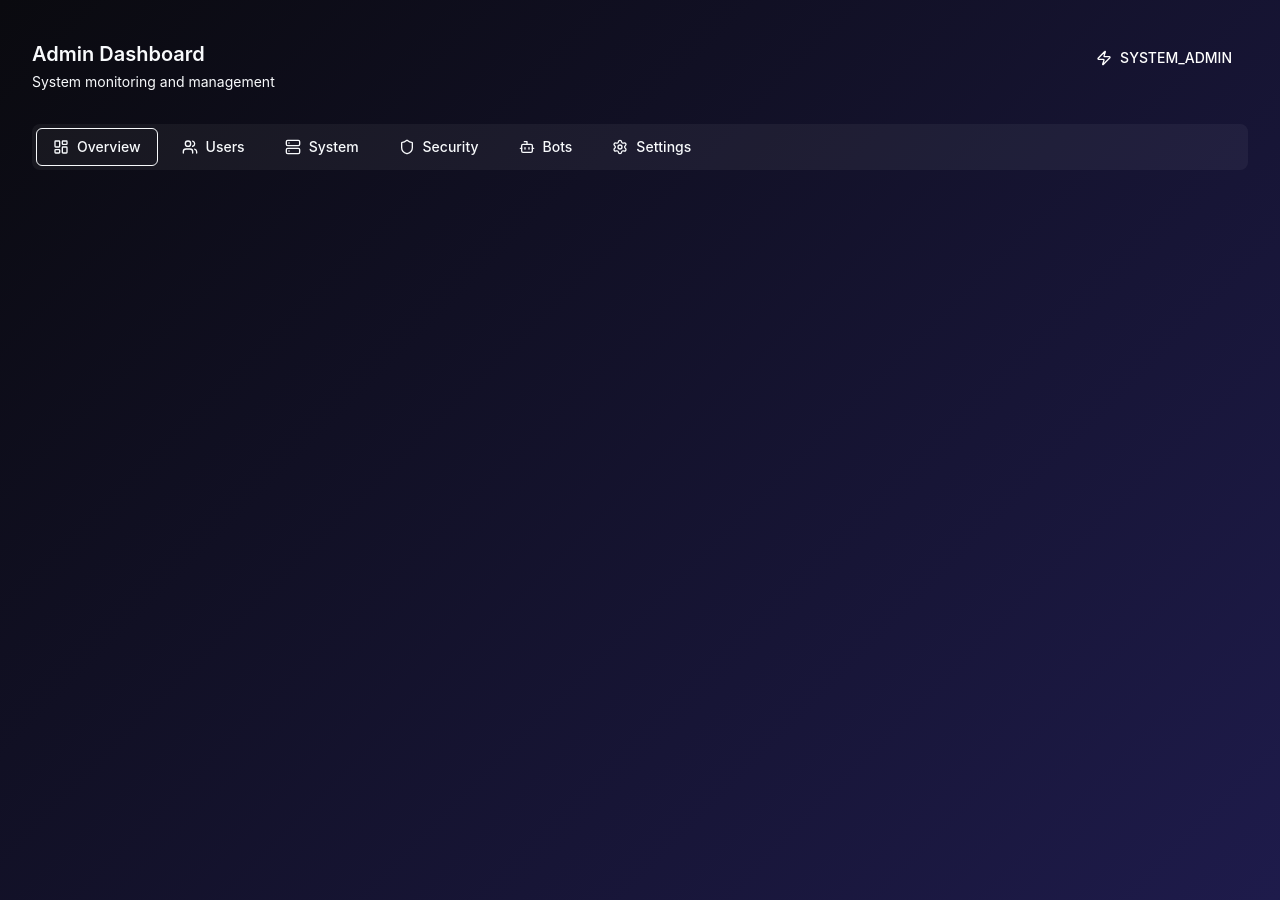
Test case: AdminDashboard › should navigate to different tabs
This screenshot has width=1280, height=900.
Click the button "Users": [213, 147] box [166,129,261,165]
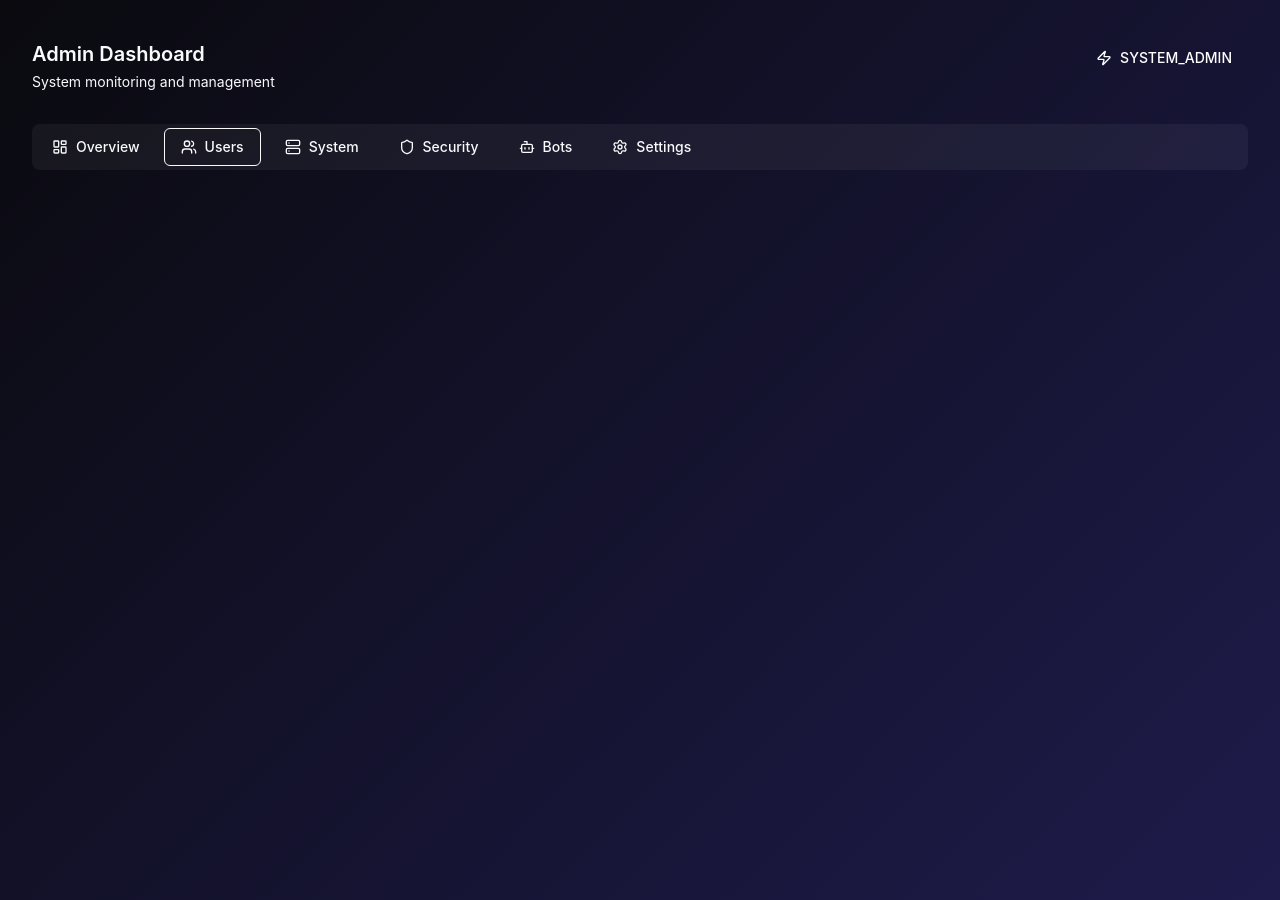
Click the button "System": [322, 147] box [269,129,374,165]
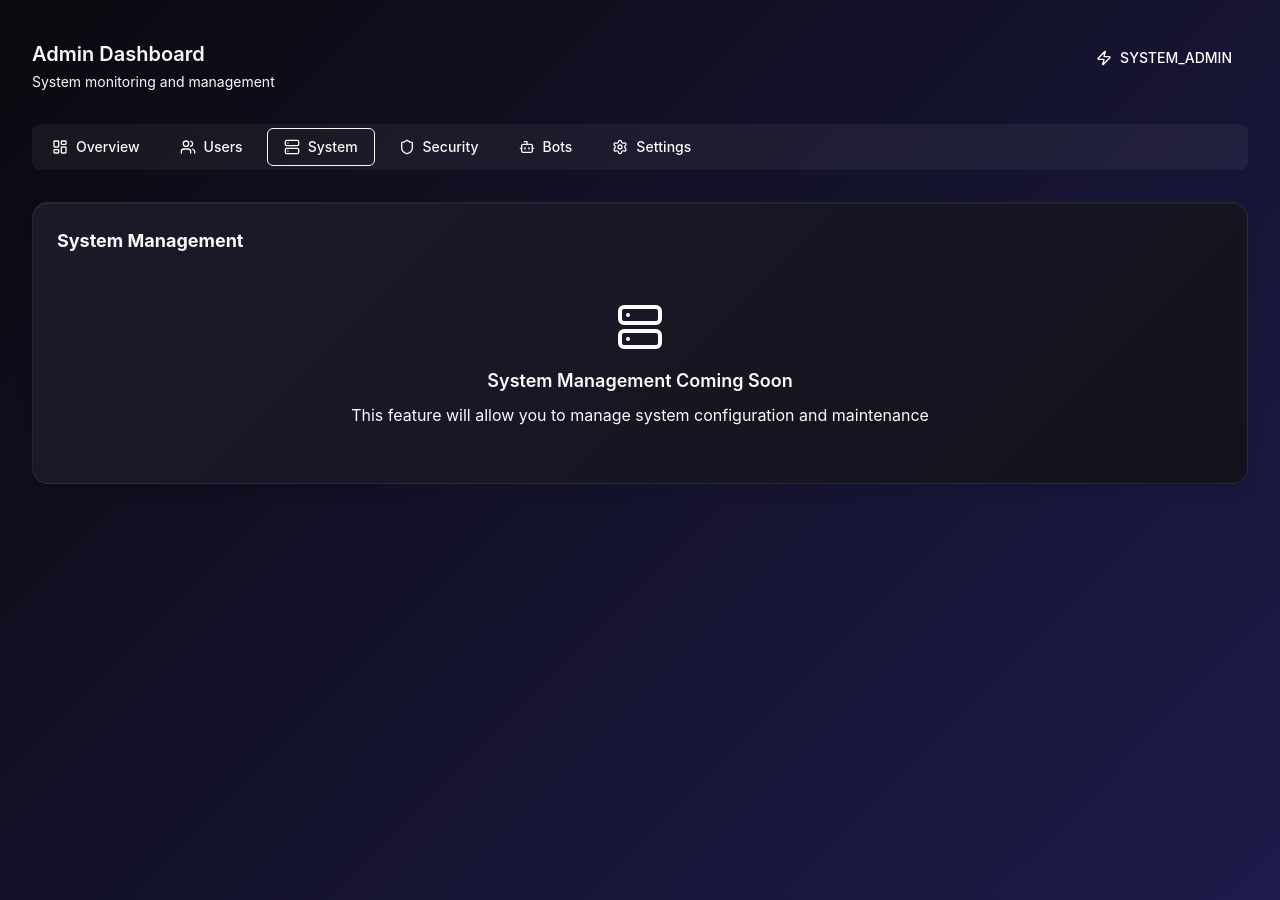
Now the heading "System Management" is shown, box [57,230,244,251]
Now the heading "System Management Coming Soon" is shown, box [487,370,793,391]
